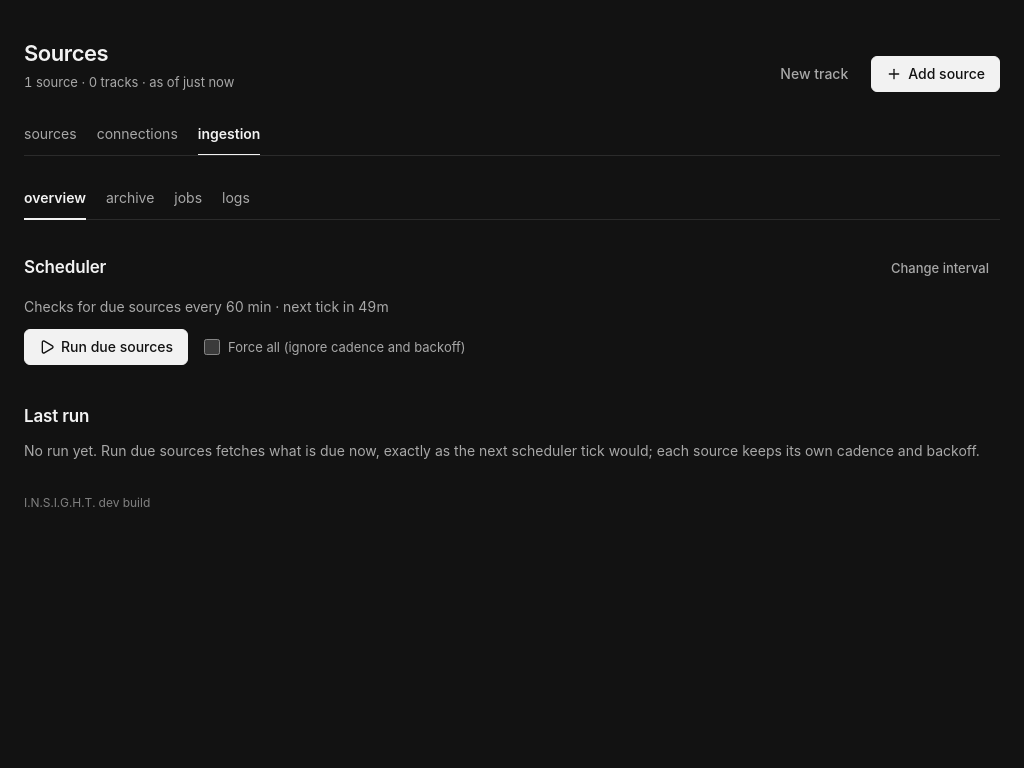
Sources → ingestion tab › archive lists every source with its archive status and backlog
Click the link "archive".
click(130, 198)  # box [106,189,154,206]
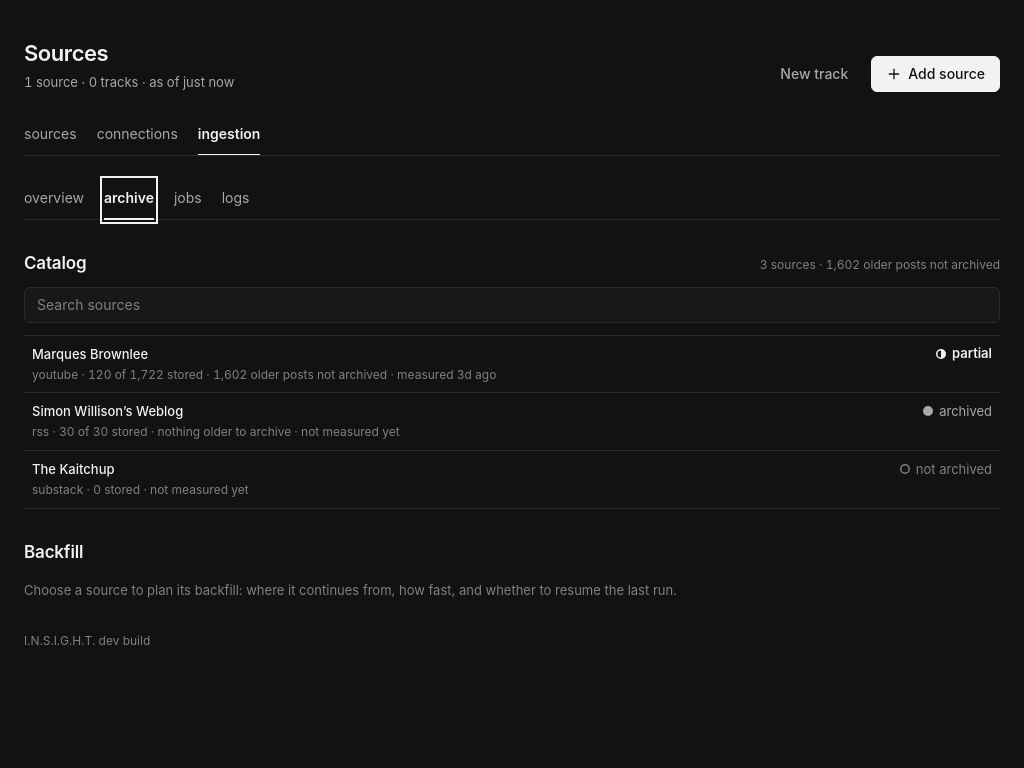
Result: the text "partial" is shown at [952,344,992,363]
Result: the text "1,602 older posts not archived · measured 3d ago" is shown at [32,367,496,382]
Result: the text "archived" is shown at [939,402,992,421]
Type "kait" into the search field named "Search the catalog".
click(512, 305); type("kait")  # box [24,287,1000,323]
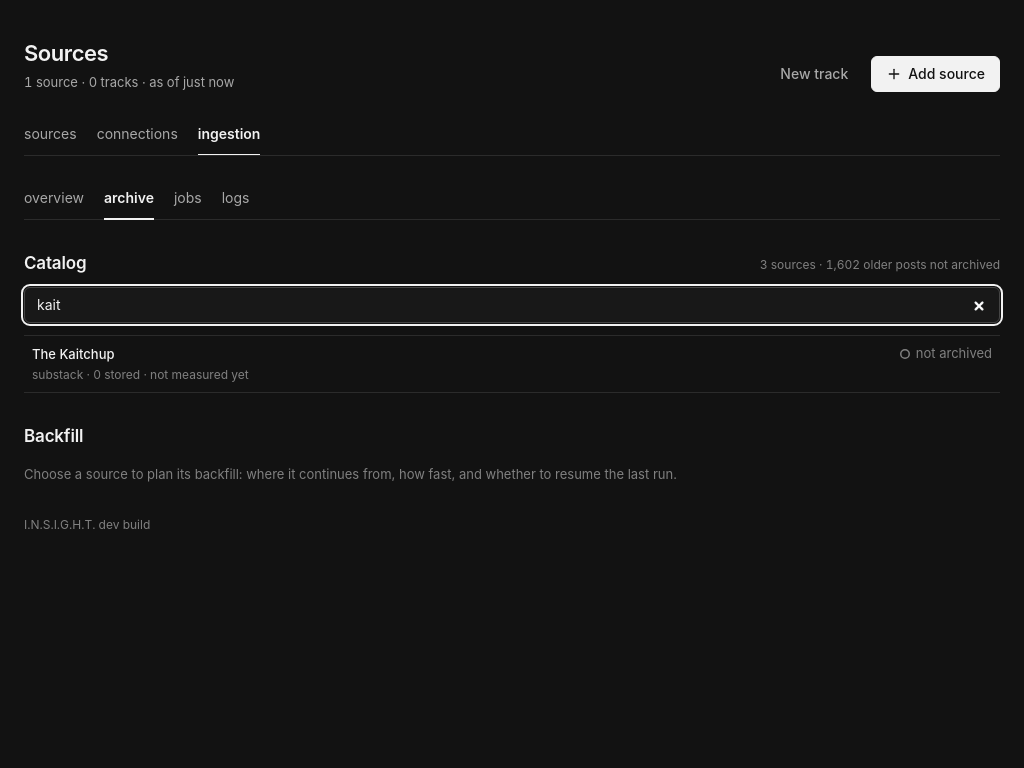
Result: the text "The Kaitchup" is shown at [32,344,114,364]
Result: the button "Marques Brownlee" is gone
